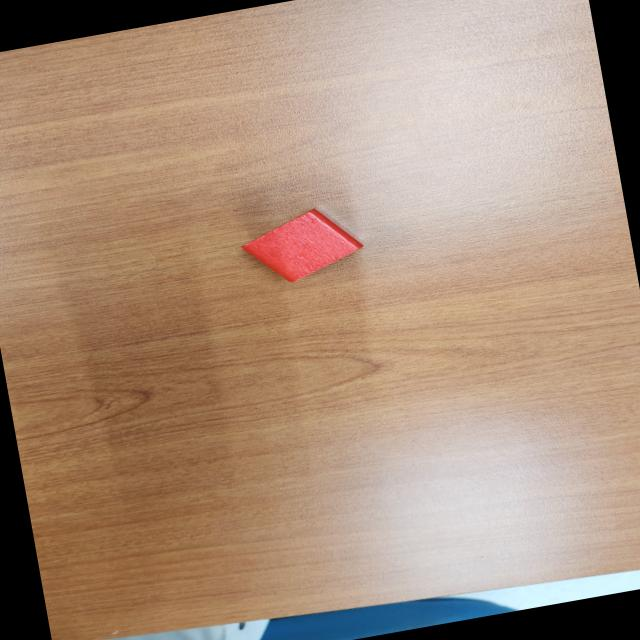red: (237, 201, 369, 292)
